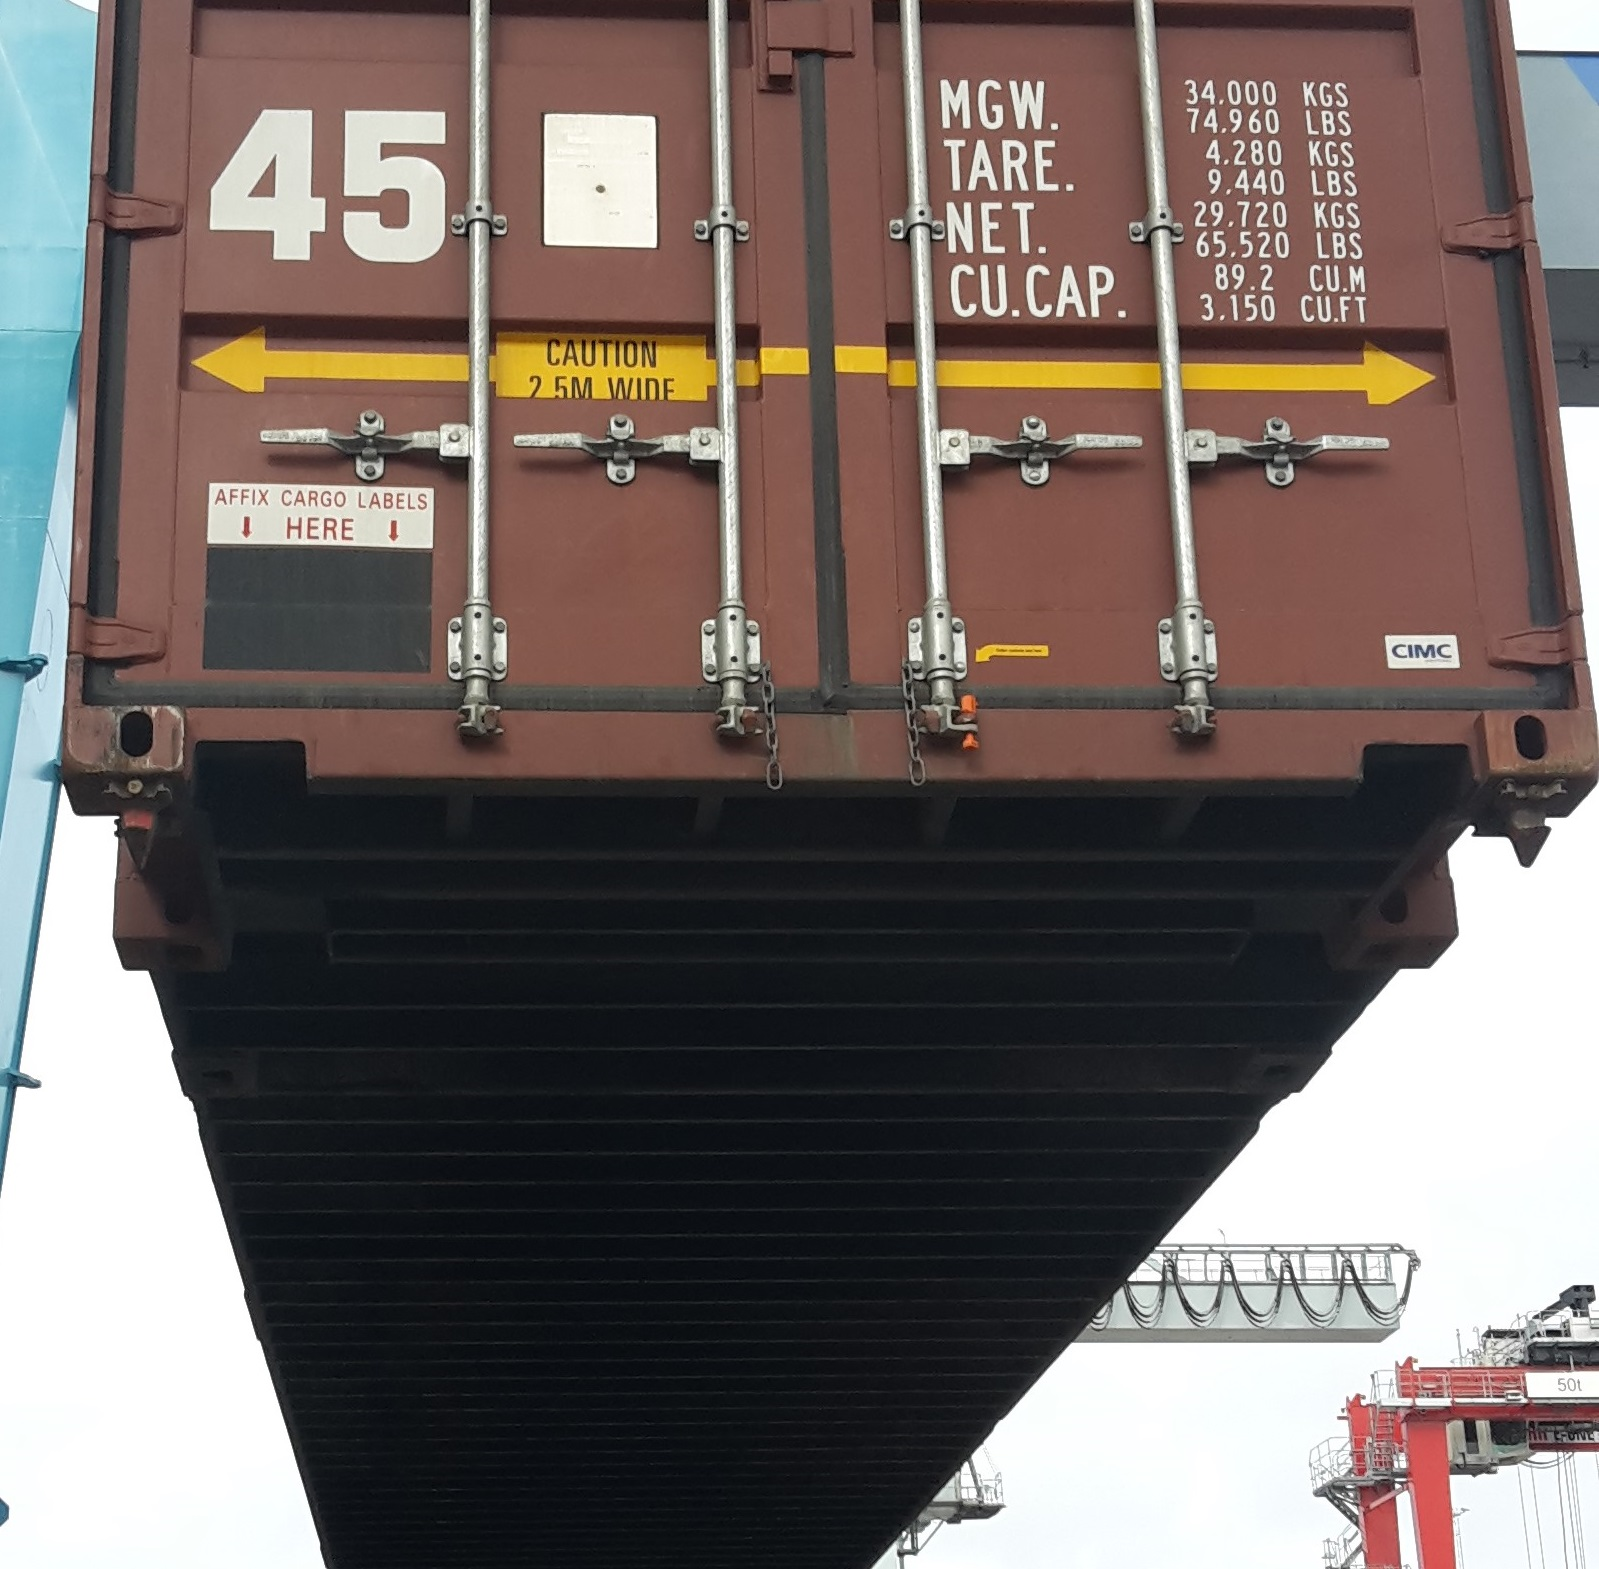container_door: (52, 1, 1599, 774)
